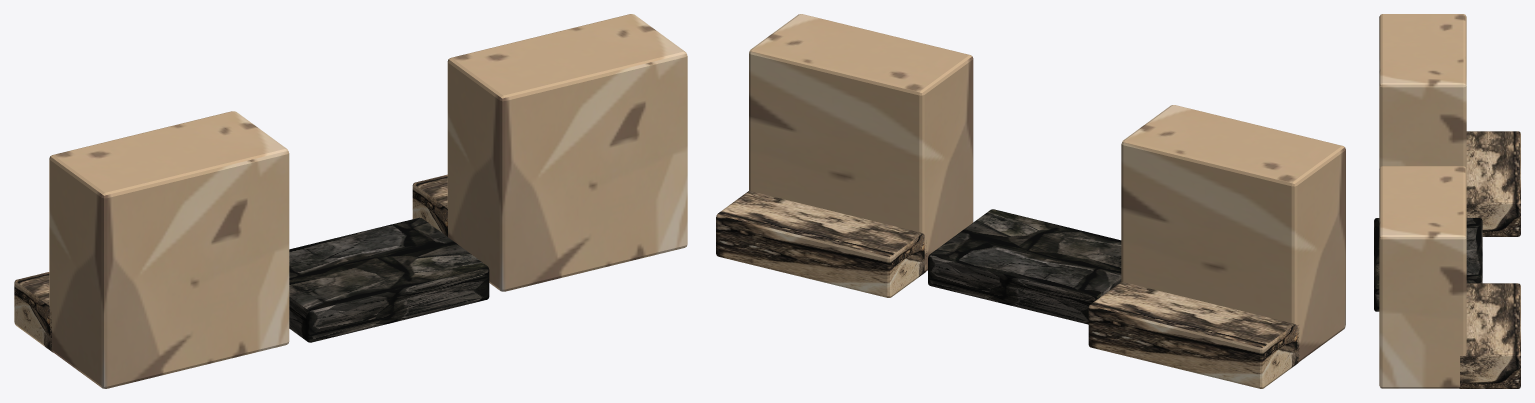
The model's file is parapet_destroyed_gap_LOD1.glb.
3 renders of one model, left to right at view 1: azimuth 30°, elevation 25°; view 2: azimuth 150°, elevation 25°; view 3: azimuth 270°, elevation 25°, orthographic. The views are drawn at different scales.
Visible parts, largest first — view 1: LOD1_WallSegment, LOD1_WallSegment.001, LOD1_RubbleBed, LOD1_StepSegment, LOD1_StepSegment.001; view 2: LOD1_WallSegment, LOD1_WallSegment.001, LOD1_RubbleBed, LOD1_StepSegment, LOD1_StepSegment.001; view 3: LOD1_WallSegment.001, LOD1_WallSegment, LOD1_StepSegment.001, LOD1_StepSegment, LOD1_RubbleBed.
Boxes of the visible parts, box(x1,y1,x2,y2) form: LOD1_WallSegment: box(49, 111, 289, 388); LOD1_WallSegment.001: box(447, 14, 687, 291); LOD1_RubbleBed: box(289, 217, 489, 342); LOD1_StepSegment: box(14, 272, 53, 352); LOD1_StepSegment.001: box(412, 174, 447, 236); LOD1_WallSegment: box(1121, 105, 1345, 361); LOD1_WallSegment.001: box(749, 14, 973, 270); LOD1_RubbleBed: box(928, 209, 1121, 324); LOD1_StepSegment: box(1088, 282, 1299, 388); LOD1_StepSegment.001: box(716, 191, 926, 297); LOD1_WallSegment.001: box(1379, 166, 1466, 388); LOD1_WallSegment: box(1379, 14, 1466, 168); LOD1_StepSegment.001: box(1459, 283, 1520, 388); LOD1_StepSegment: box(1466, 131, 1520, 236); LOD1_RubbleBed: box(1374, 218, 1482, 311).
Bounding box in the file's own units: 4 × 1.28 × 1.11.
Materials: 3 (3 with a texture image).
